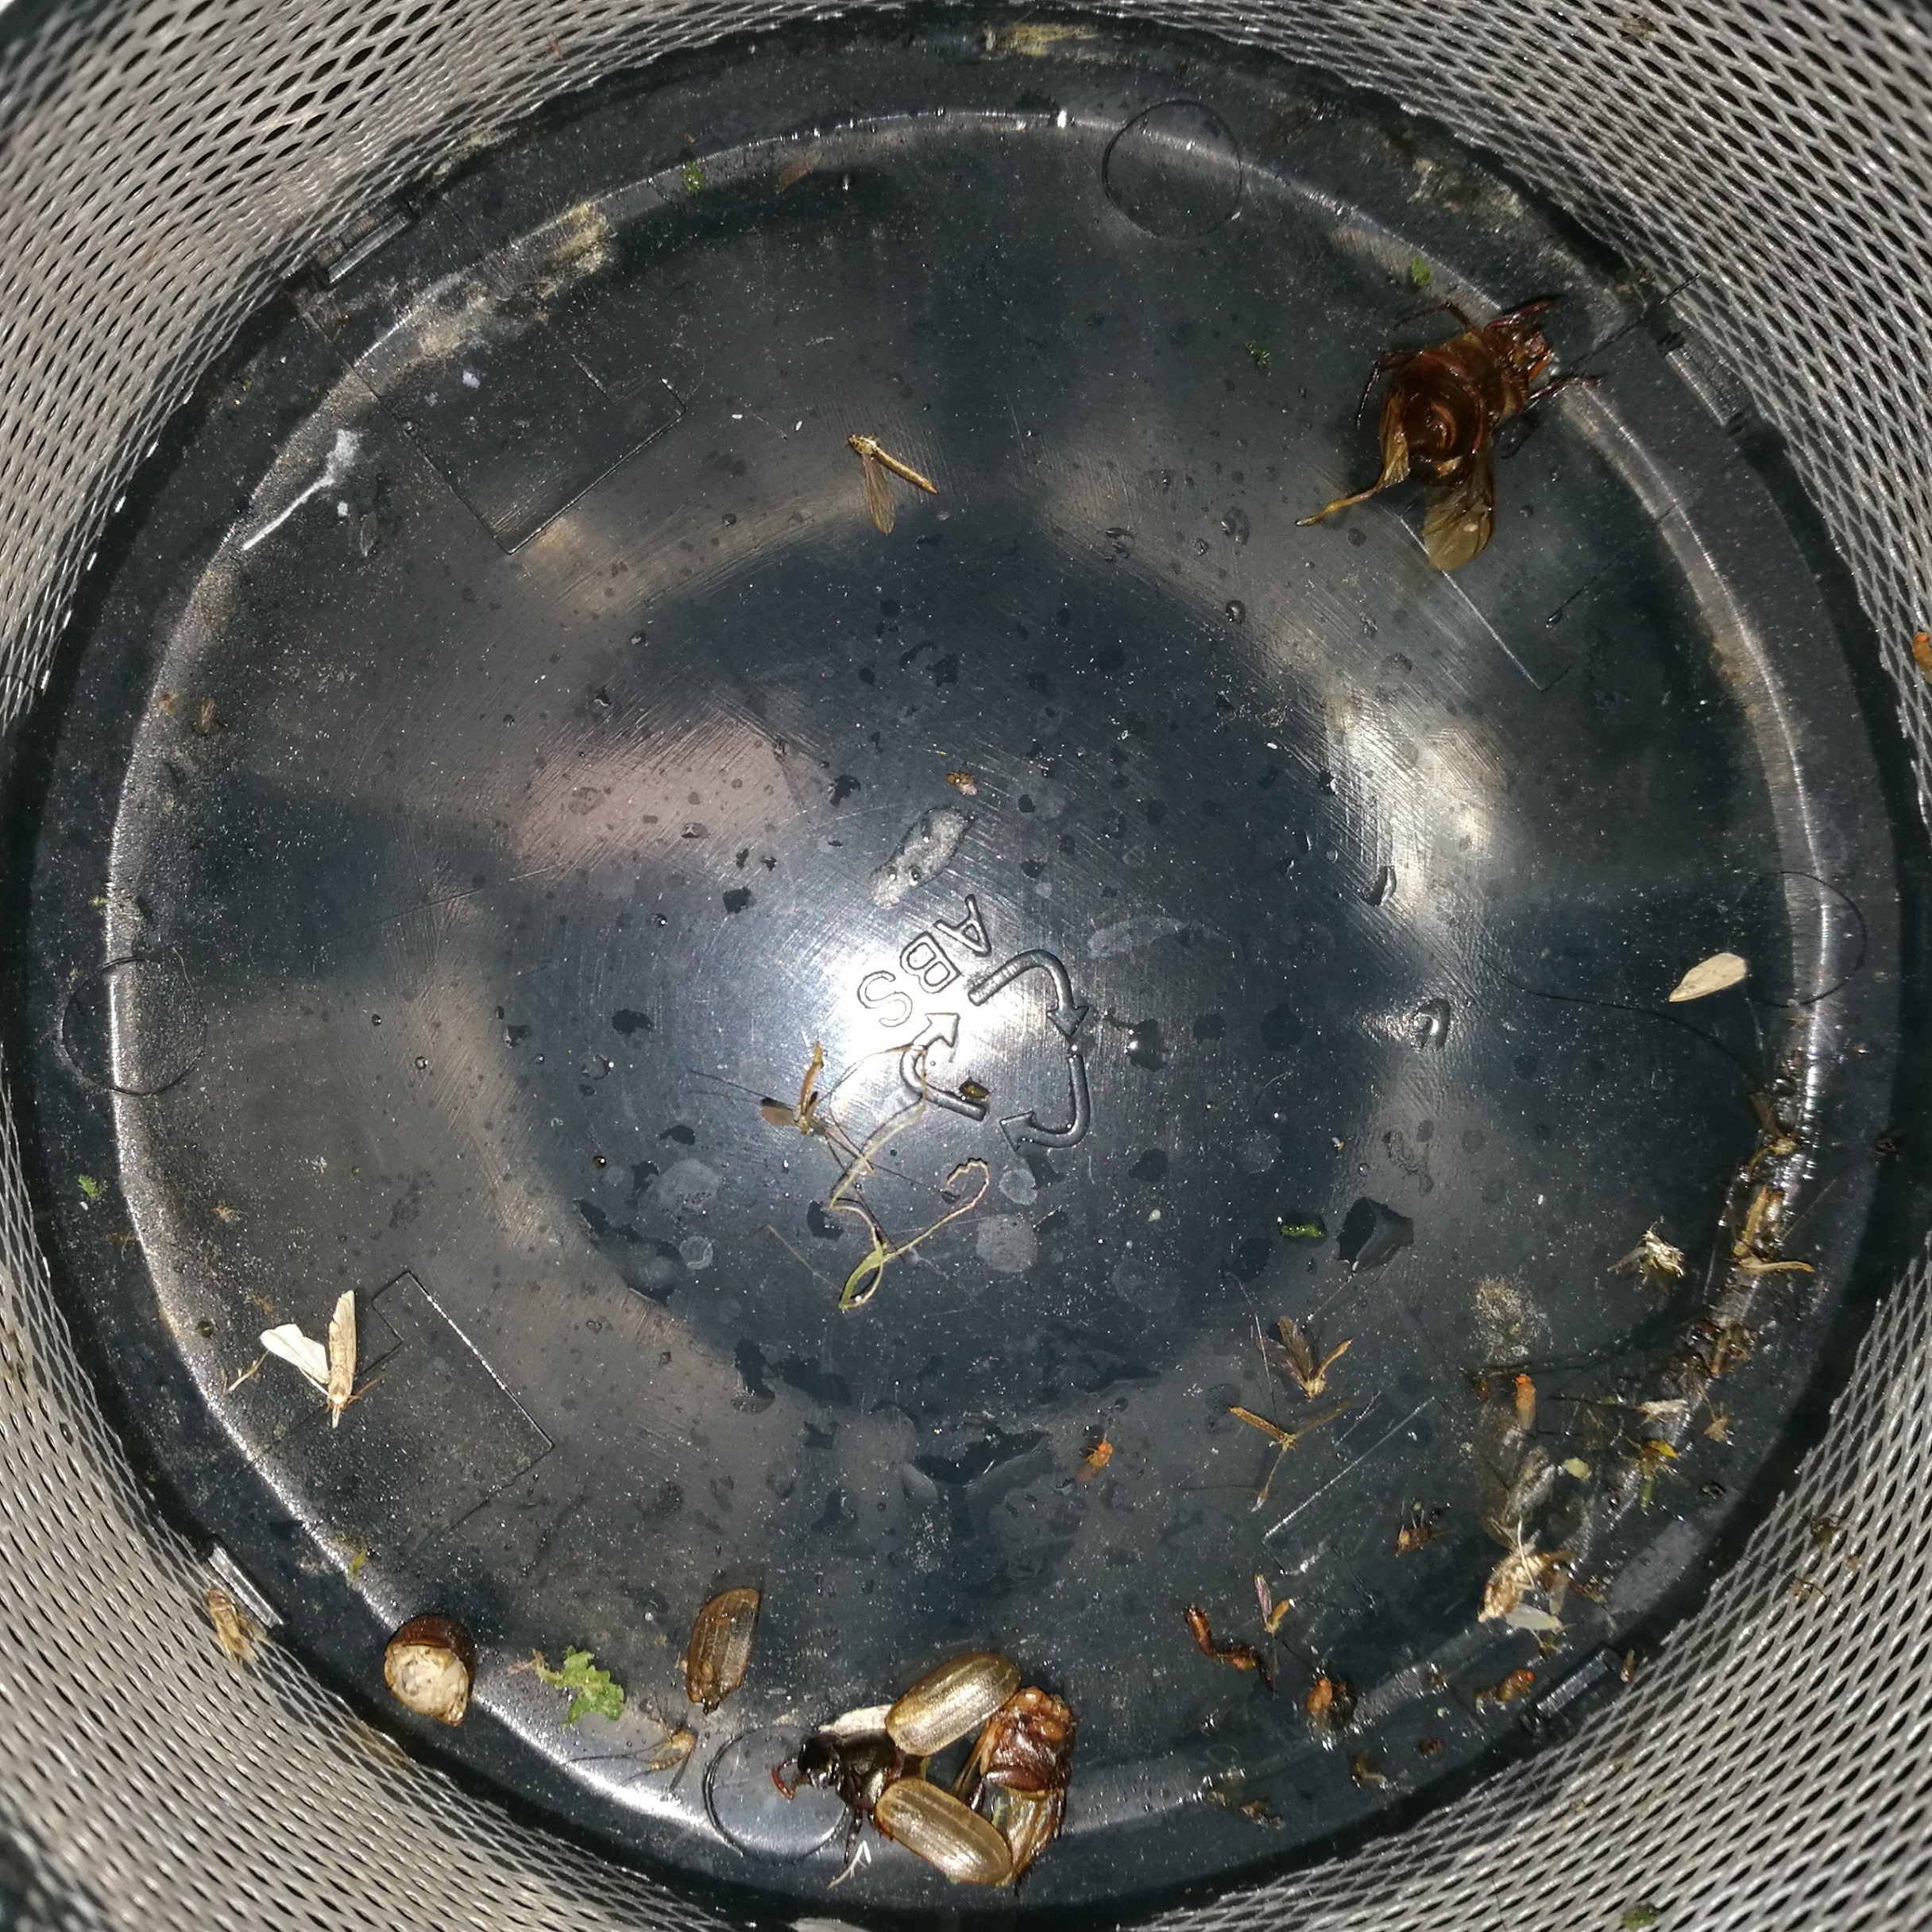beetle: (1375, 322, 1553, 487)
mosquito: (1477, 1541, 1548, 1622), (1254, 1322, 1325, 1396), (1516, 1371, 1536, 1433)
moth: (264, 1295, 356, 1422)
